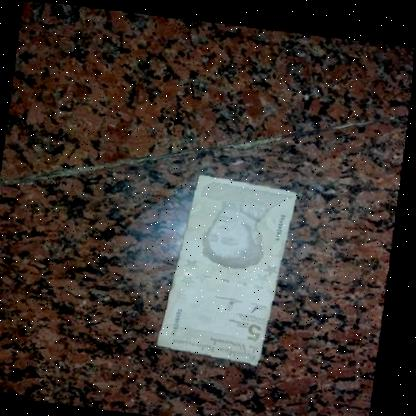five-front-vef: (160, 170, 301, 363)
